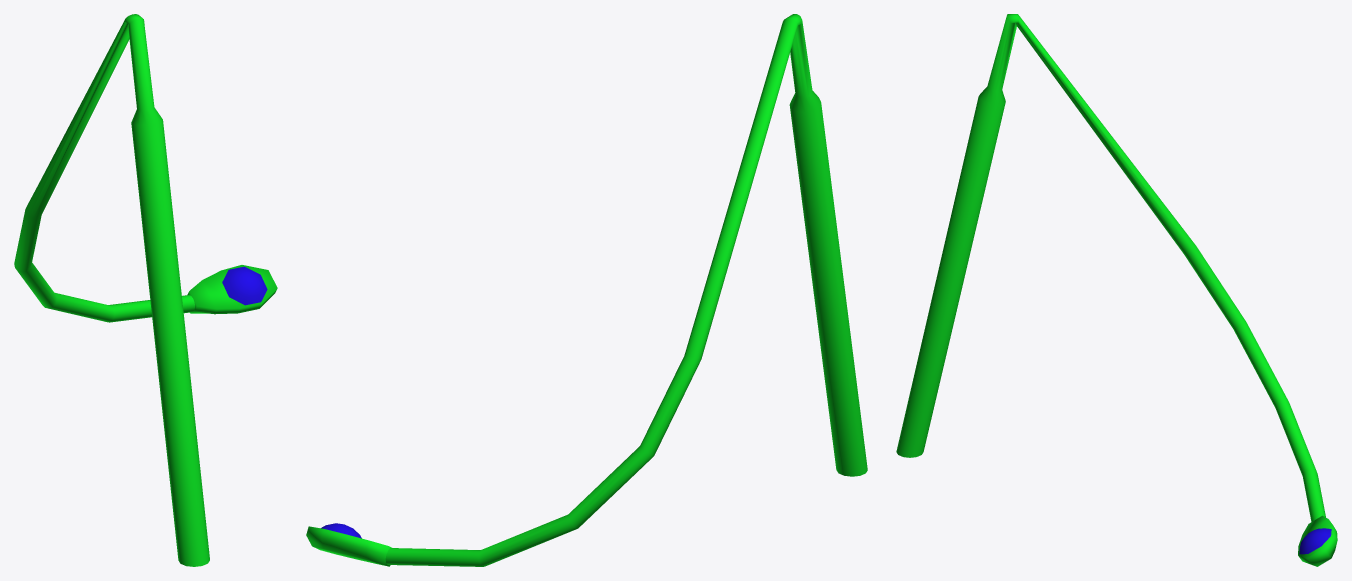
The model's file is LantaarnKapot.fbx.
3 renders of one model, left to right at view 1: azimuth 30°, elevation 25°; view 2: azimuth 150°, elevation 25°; view 3: azimuth 270°, elevation 25°, orthographic. The views are drawn at different scales.
Visible parts, largest first — view 1: kapot; view 2: kapot; view 3: kapot.
Part boxes in pixels (x1=…): kapot: x1=14, y1=14, x2=277, y2=566; kapot: x1=306, y1=14, x2=867, y2=566; kapot: x1=896, y1=14, x2=1337, y2=566.
Bounding box in the file's own units: 246 × 362 × 331.
